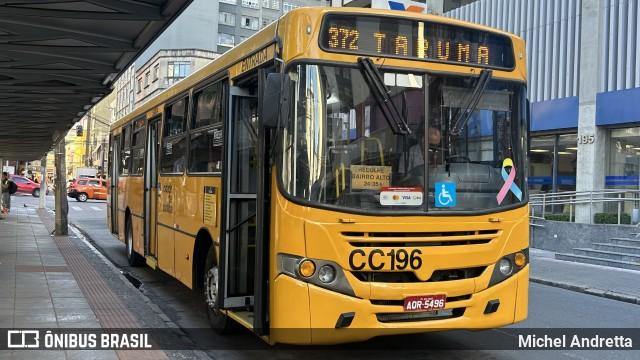TARUMA: (372, 26, 492, 70)
